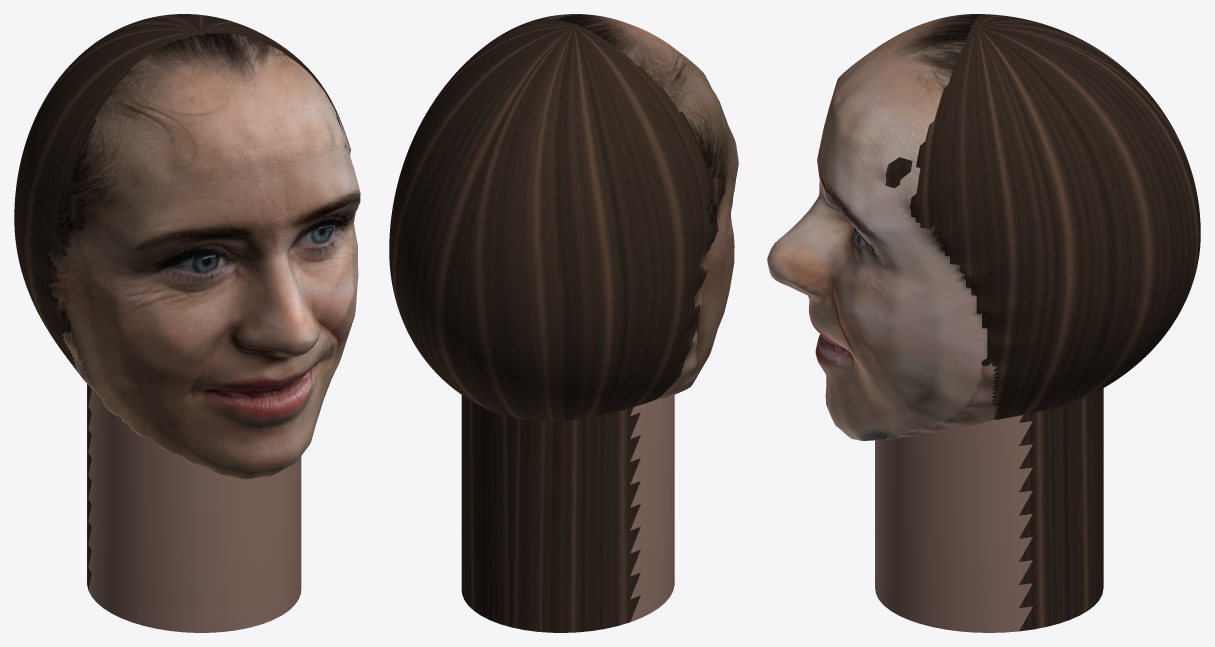
File: claire_foy_head.glb
3 views of the same model, side by side, from view 1: azimuth 30°, elevation 25°; view 2: azimuth 150°, elevation 25°; view 3: azimuth 270°, elevation 25° (orthographic).
Visible parts, largest first — view 1: ClaireFoyHead; view 2: ClaireFoyHead; view 3: ClaireFoyHead.
Boxes of the visible parts, bbox=[...] form: ClaireFoyHead: bbox=[14, 14, 360, 632]; ClaireFoyHead: bbox=[389, 14, 738, 632]; ClaireFoyHead: bbox=[767, 14, 1200, 632].
Bounding box in the file's own units: 0.1547 × 0.293 × 0.205.
Materials: 1 (1 with a texture image).
